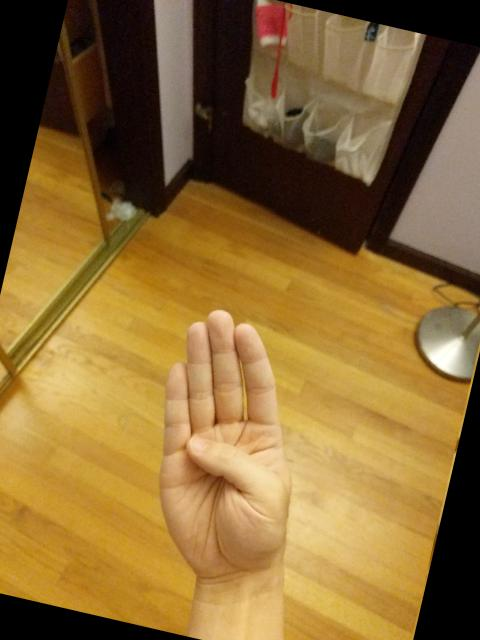B: (116, 296, 346, 611)
